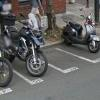Motorcycle: (4, 14, 59, 99)
